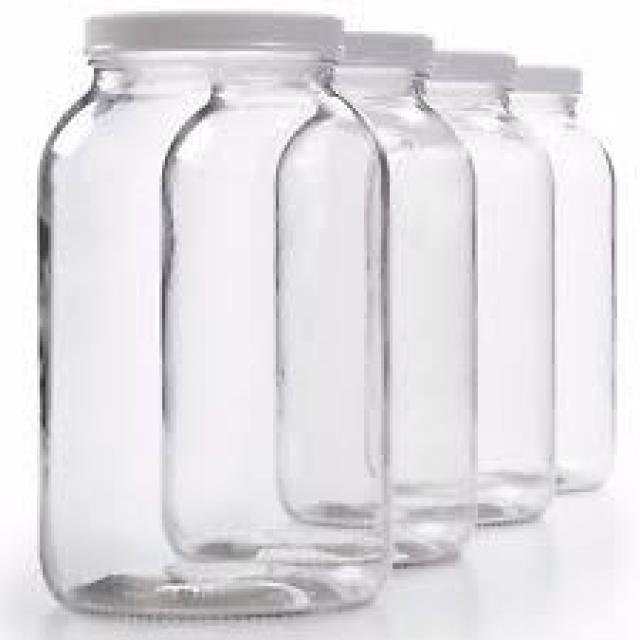glass: (34, 51, 387, 612), (160, 63, 470, 563), (276, 68, 552, 518), (367, 91, 611, 489)
metal: (86, 9, 342, 63), (324, 26, 427, 68), (421, 46, 515, 88), (504, 60, 575, 100)
